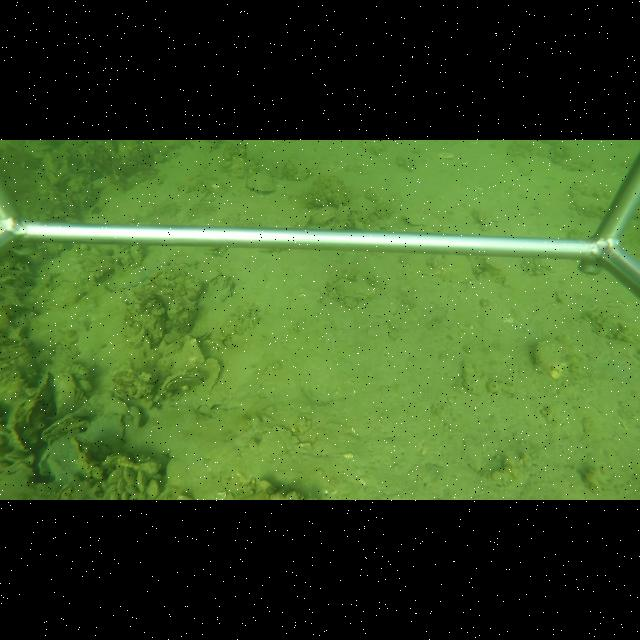Oyster-Closed: (8, 371, 51, 451), (533, 338, 569, 377), (40, 415, 92, 438), (329, 278, 378, 302), (156, 370, 203, 394), (53, 372, 78, 415), (243, 169, 277, 194), (182, 334, 206, 367), (205, 356, 222, 394)
Oyster-Open: (36, 445, 60, 483)
